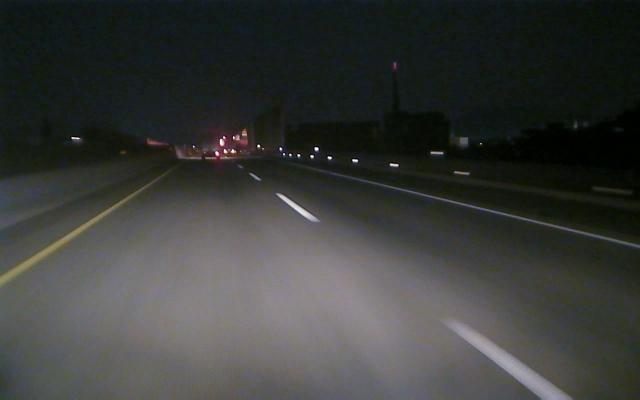lane: (250, 174, 574, 400), (334, 173, 637, 250), (1, 182, 151, 286)
